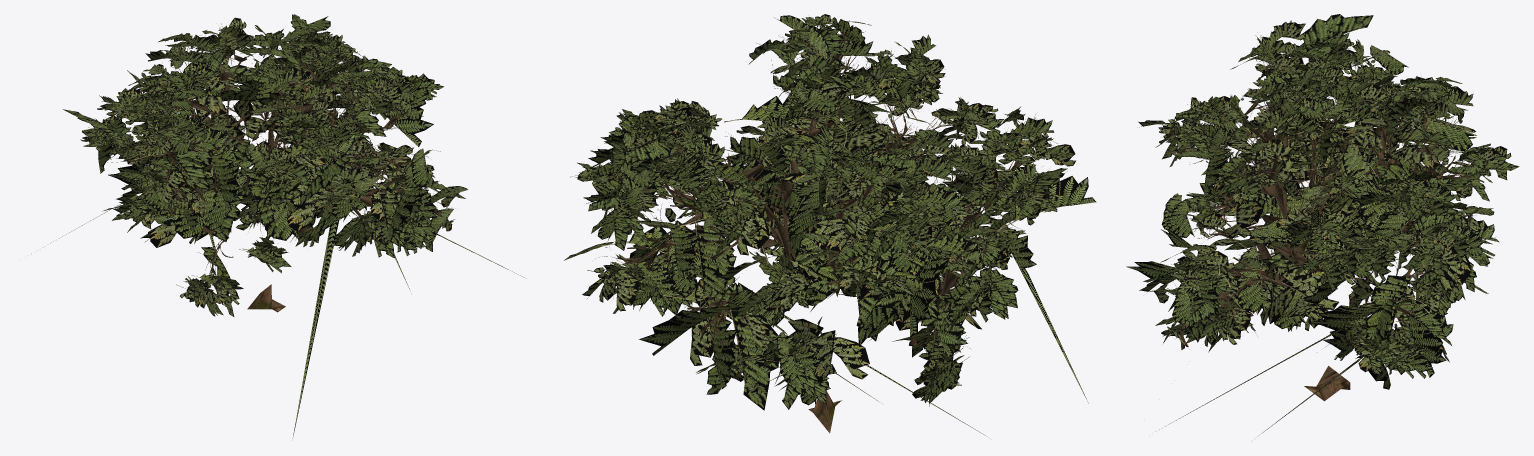
The picture shows the model from 3 angles, left to right: view 1: azimuth 30°, elevation 25°; view 2: azimuth 150°, elevation 25°; view 3: azimuth 270°, elevation 25°; orthographic projection. The views are drawn at different scales.
Parts seen in each view (by area): view 1: jacaranda_tree_LOD0, jacaranda_tree_LOD0.001; view 2: jacaranda_tree_LOD0, jacaranda_tree_LOD0.001, jacaranda_tree_LOD0.002; view 3: jacaranda_tree_LOD0, jacaranda_tree_LOD0.001, jacaranda_tree_LOD0.002.
Boxes of the visible parts, x1,y1,x2,y2 form: jacaranda_tree_LOD0: (50, 14, 524, 438); jacaranda_tree_LOD0.001: (90, 23, 450, 291); jacaranda_tree_LOD0: (564, 14, 1096, 435); jacaranda_tree_LOD0.001: (599, 17, 1067, 357); jacaranda_tree_LOD0.002: (808, 390, 841, 433); jacaranda_tree_LOD0: (1126, 14, 1519, 433); jacaranda_tree_LOD0.001: (1161, 35, 1483, 355); jacaranda_tree_LOD0.002: (1304, 366, 1350, 401).
Bounding box in the file's own units: 29.76 × 24.61 × 21.3.
3 materials, 3 textured.
